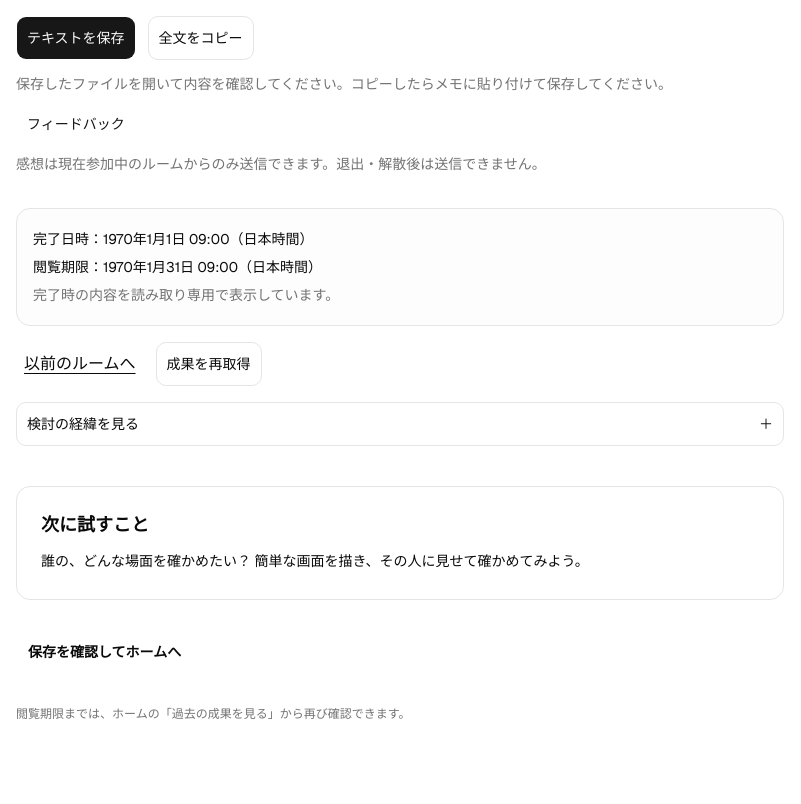
場面の通信エラーを記録欠落と断定せず、再取得できる
The width and height of the screenshot is (801, 804).
Click the button "検討の経緯を見る ＋" at (83,424), box [16, 402, 784, 446]
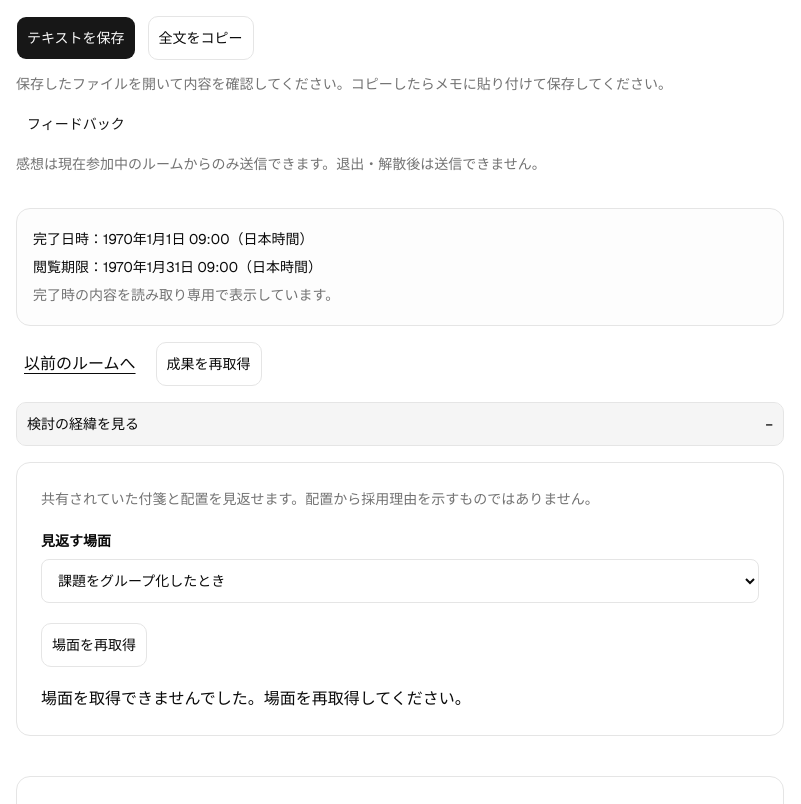
Check: the text "記録機能の導入前" is not shown
Check: the message "場面を取得できませんでした。場面を再取得してください。" is shown, box [41, 688, 471, 709]
Click the button "場面を再取得" at (94,645), box [41, 623, 147, 667]
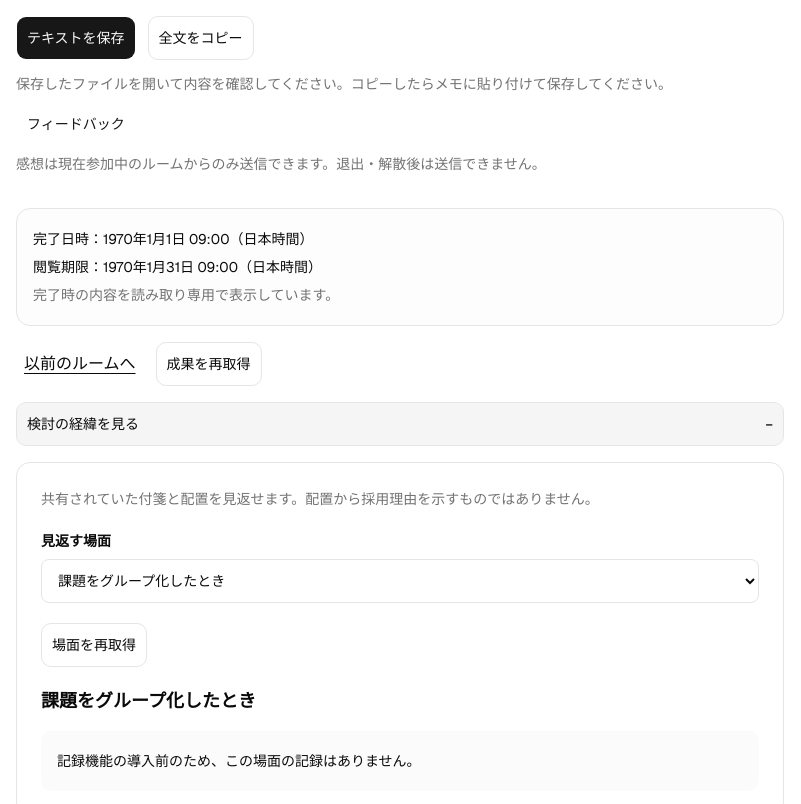
Check: the text "記録機能の導入前のため、この場面の記録はありません。" is shown, box [41, 731, 759, 791]
